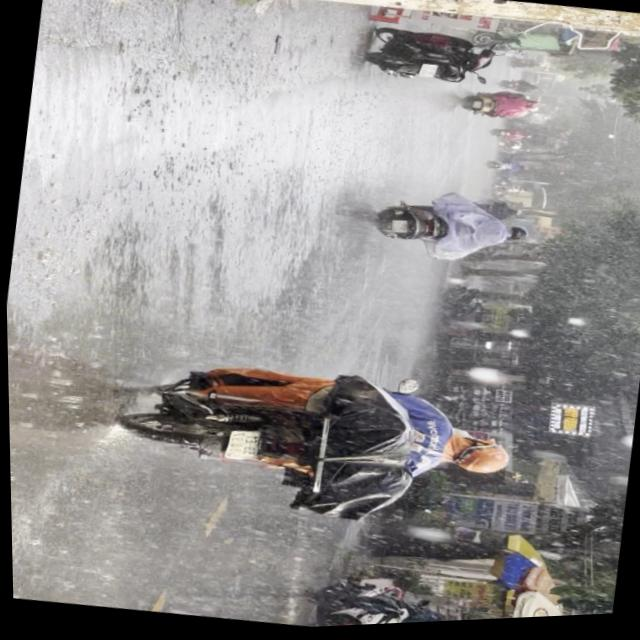helmet: (443, 439, 510, 483), (505, 230, 529, 248)
licenseplate: (99, 337, 525, 548), (356, 185, 535, 279)
nohelmet: (223, 431, 258, 464), (389, 223, 407, 239)
